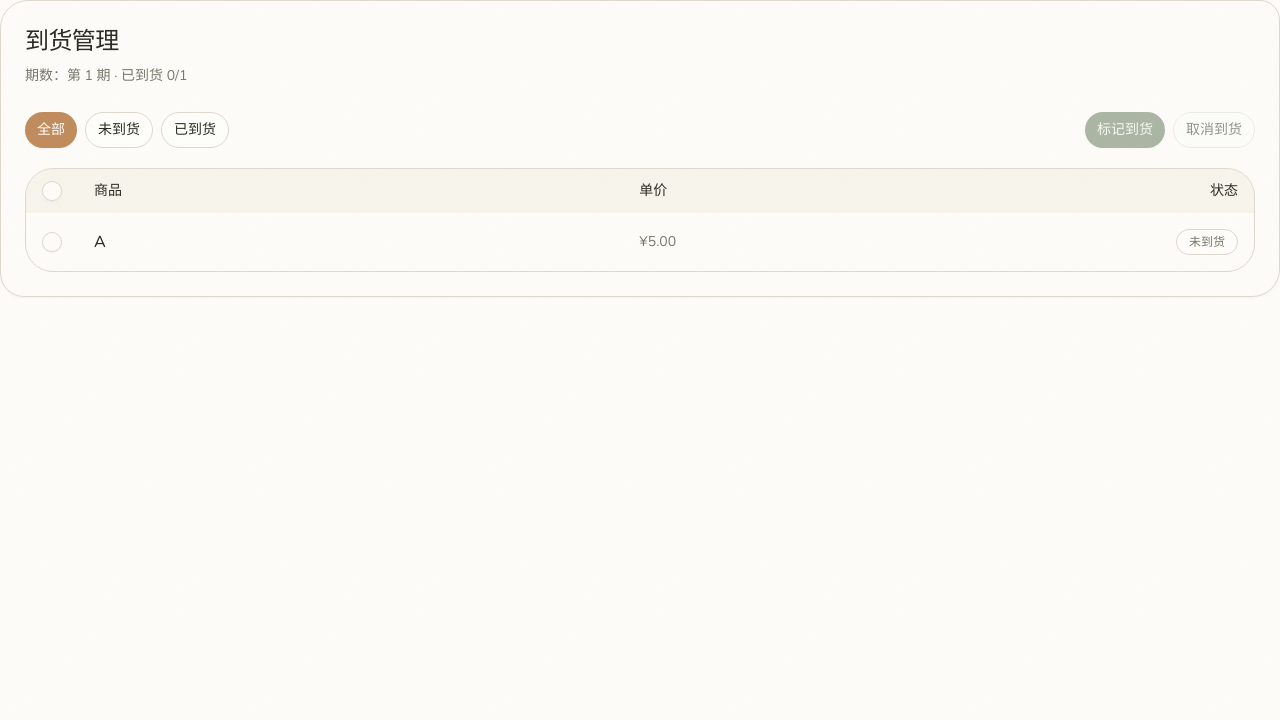
Test case: ArrivalManager reports network errors
The image size is (1280, 720).
Click the checkbox named "Select A". click: (52, 242)
box: x1=42 y1=232 x2=62 y2=252
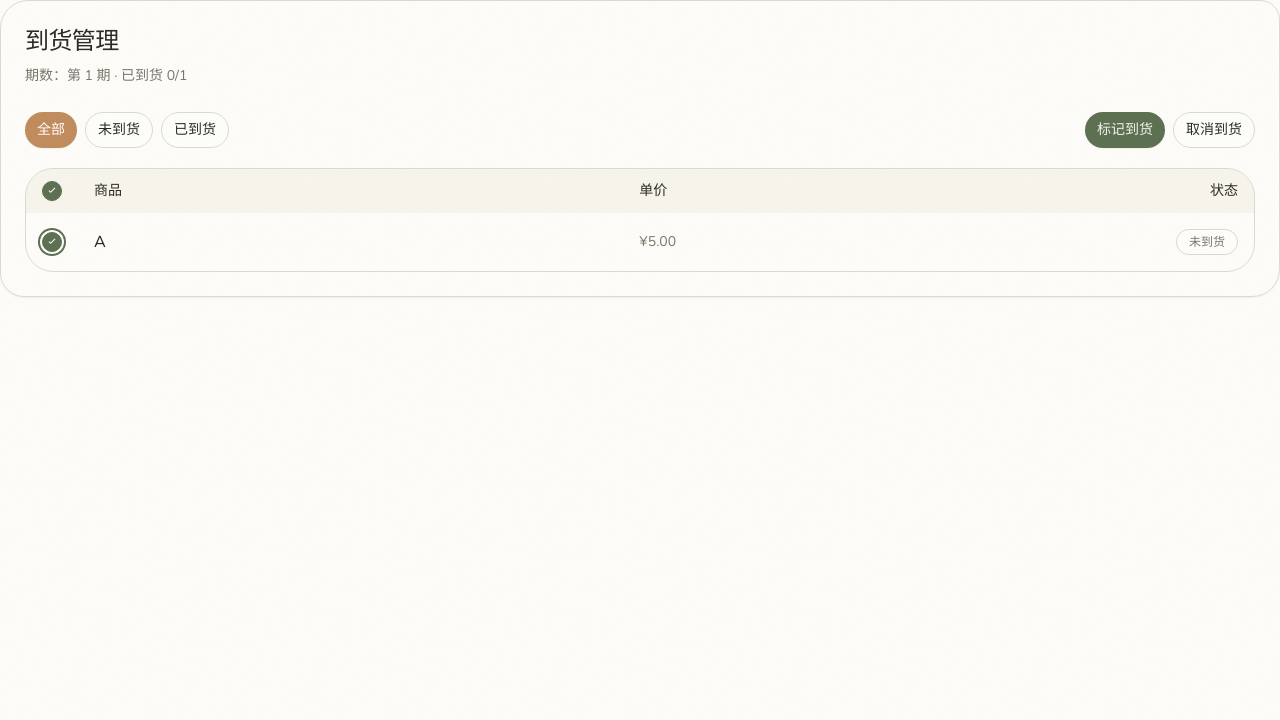
Click the button "标记到货". click: (1125, 130)
box: x1=1085 y1=112 x2=1165 y2=148
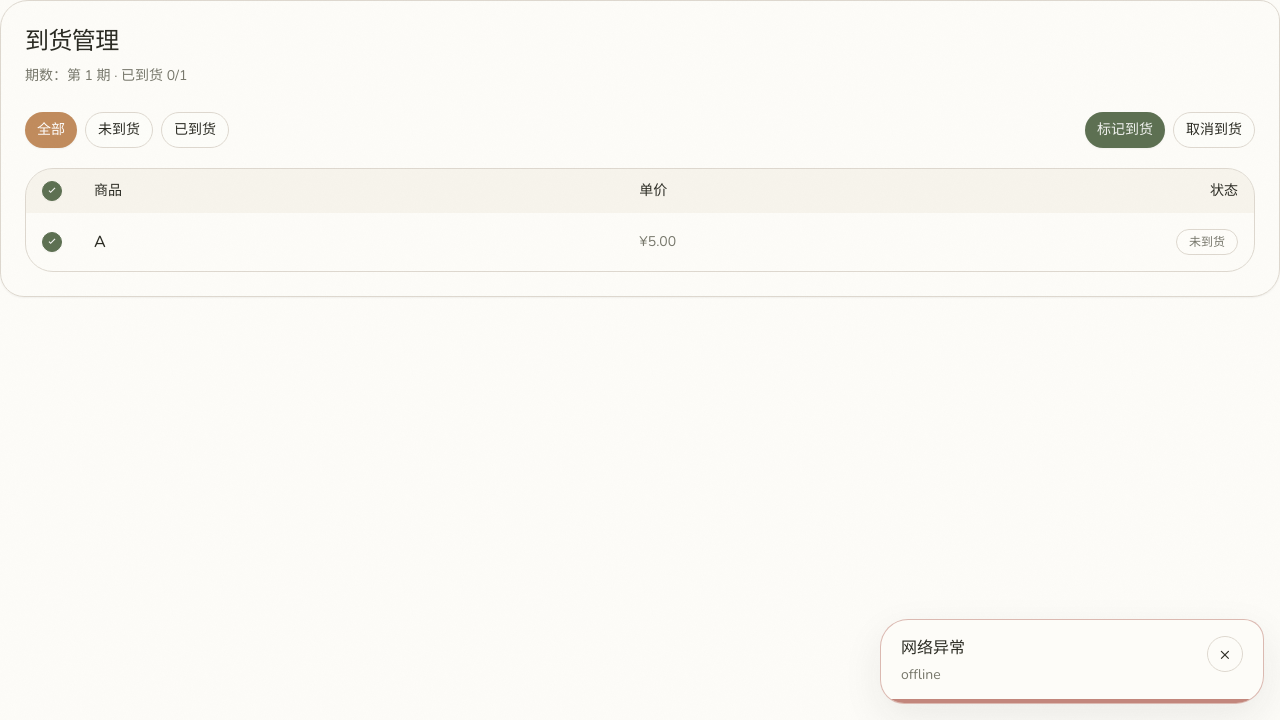
Expected: the text "网络异常" is shown, x1=901 y1=637 x2=965 y2=659
Expected: the text "offline" is shown, x1=901 y1=665 x2=941 y2=684
